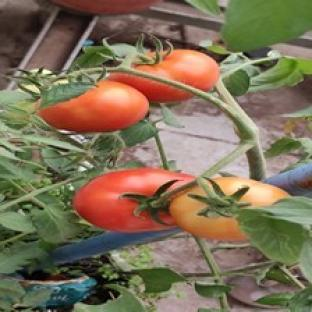Tomato: (73, 168, 193, 232), (38, 81, 149, 132), (170, 186, 246, 240), (134, 49, 220, 91)
